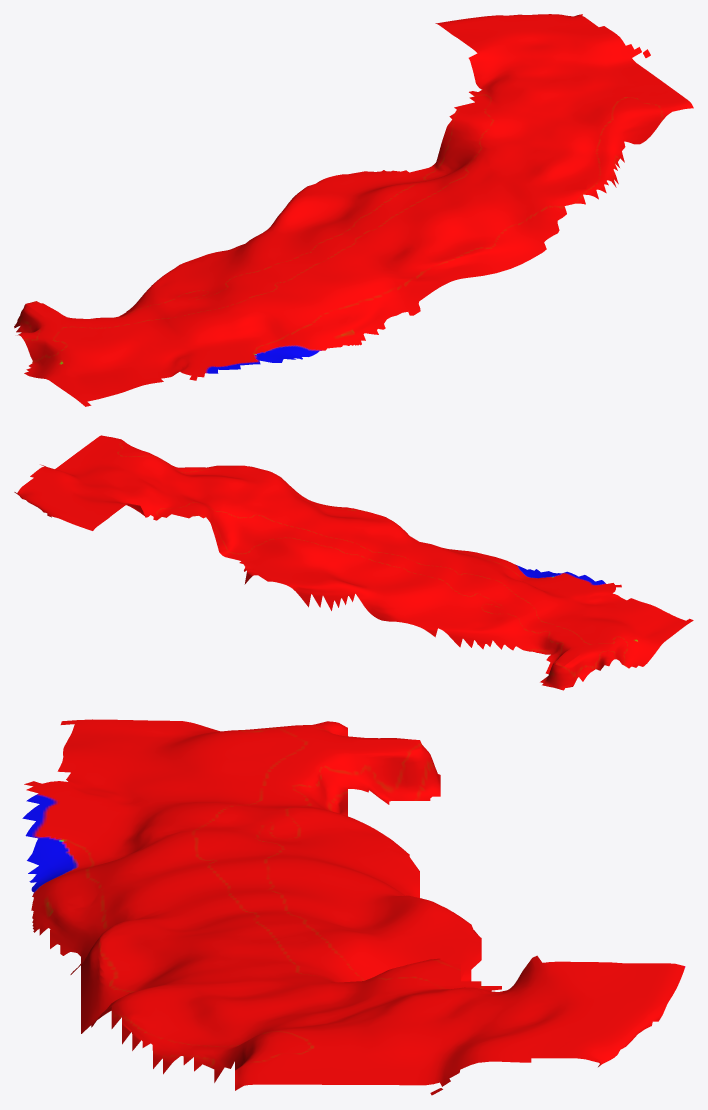
The model's file is split5.fbx.
3 renders of one model, top to bottom at view 1: azimuth 30°, elevation 25°; view 2: azimuth 150°, elevation 25°; view 3: azimuth 270°, elevation 25°, orthographic. The views are drawn at different scales.
Visible parts, largest first — view 1: Retopo_Plane.002; view 2: Retopo_Plane.002; view 3: Retopo_Plane.002.
Boxes of the visible parts, x1=… form: Retopo_Plane.002: x1=14, y1=14, x2=693, y2=406; Retopo_Plane.002: x1=14, y1=435, x2=693, y2=690; Retopo_Plane.002: x1=22, y1=719, x2=685, y2=1095.
Size of the model in its own units: 985 by 179 by 504.
